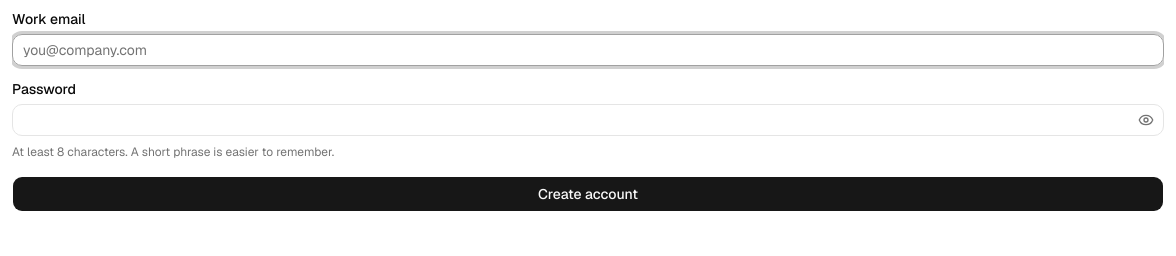
SignupForm › shows the server's password feedback on the password field
The width and height of the screenshot is (1176, 256).
Type "ada@example.com" into the field labelled "Work email".
click(588, 50); type("ada@example.com")  # box [12, 34, 1164, 66]
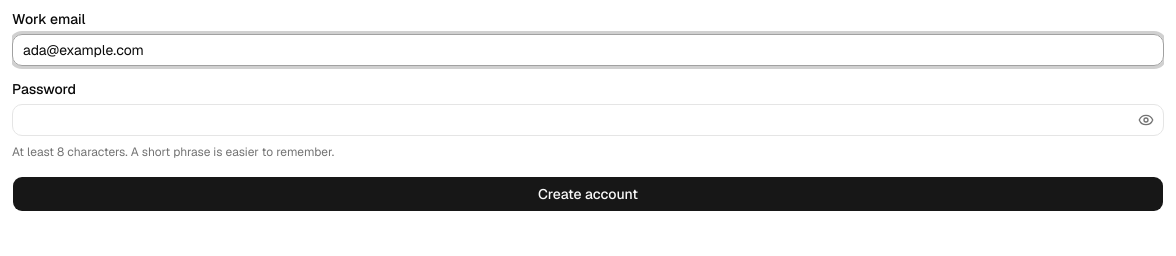
Type "correct horse" into the password field labelled "Password".
click(588, 120); type("correct horse")  # box [12, 104, 1164, 136]
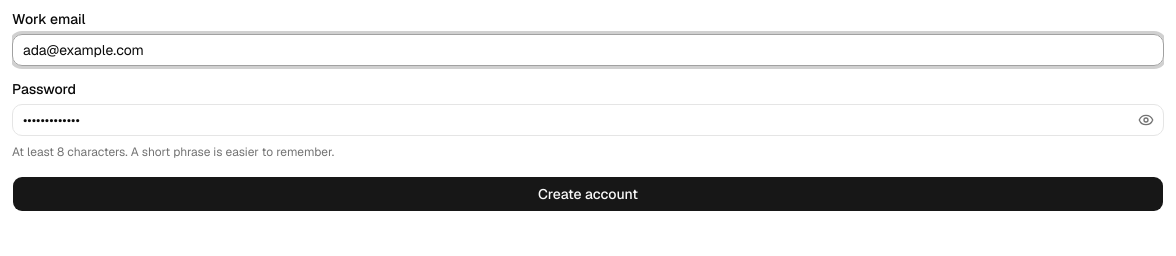
Click the button "Create account".
click(588, 194)  # box [12, 176, 1164, 212]
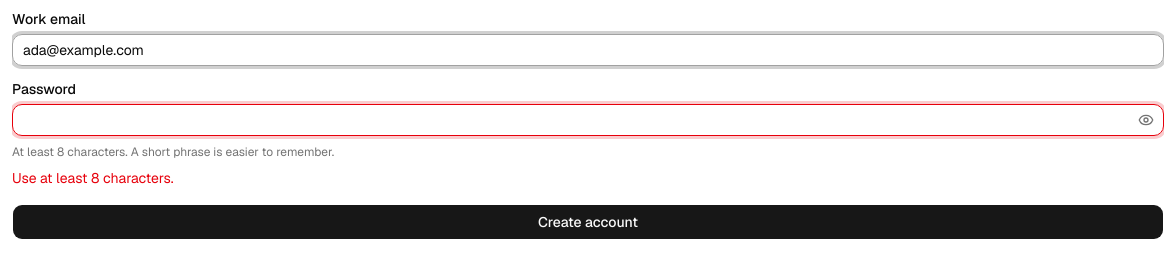
Result: the text "Use at least 8 characters." is shown at [12, 169, 174, 187]
